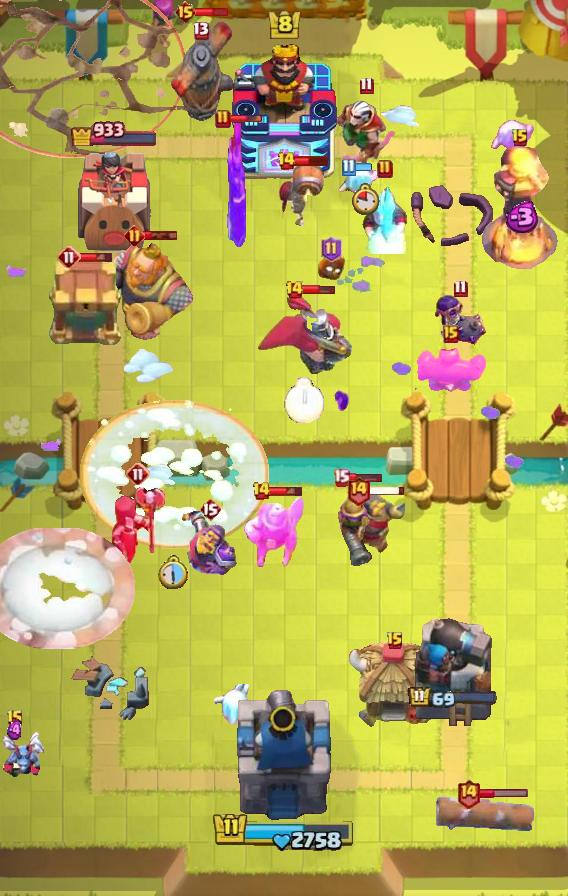bandit: (242, 493, 306, 571)
bat: (214, 684, 256, 724), (337, 165, 381, 201)
bomb: (44, 259, 122, 347)
bomb-tower: (332, 482, 374, 570)
bomber: (316, 253, 346, 281)
clock: (212, 811, 356, 853)
dark-prince: (163, 12, 241, 124)
electro-dragon: (480, 144, 560, 272)
electro-spirit: (501, 201, 540, 233), (7, 719, 23, 741)
elixir: (284, 377, 324, 423), (158, 555, 190, 589), (352, 183, 380, 215)
elixir-golem-big: (223, 123, 249, 249)
emote: (478, 789, 530, 800), (294, 153, 331, 166), (370, 484, 407, 496), (78, 251, 114, 263), (268, 485, 304, 497), (194, 6, 229, 18), (300, 284, 335, 296), (348, 471, 383, 483), (142, 231, 178, 242), (229, 114, 263, 124), (352, 162, 372, 174)
firecracker: (347, 492, 405, 555)
firecracker-evolution: (180, 509, 239, 576)
giant-skeleton: (92, 240, 200, 344)
goblin-ball: (432, 292, 488, 348)
guard: (1, 0, 187, 158)
king-tower: (230, 41, 338, 181), (232, 686, 336, 826)
knight: (277, 161, 327, 229)
minion: (434, 791, 536, 835)
mirror: (487, 118, 537, 156)
mortar: (360, 180, 410, 254)
phoenix-big: (80, 399, 268, 549)
prince: (348, 640, 442, 730)
queen-tower: (71, 144, 157, 255)
rascal-boy: (108, 485, 168, 569)
royal-delivery: (0, 731, 44, 777)
selected: (69, 118, 158, 146), (408, 686, 498, 710)
skeleton-king: (334, 98, 398, 168)
text: (456, 779, 481, 810), (346, 475, 371, 505), (57, 245, 81, 269), (126, 462, 150, 486), (321, 236, 343, 262), (175, 0, 198, 24), (199, 497, 221, 521), (123, 225, 144, 247), (276, 151, 296, 171), (285, 280, 304, 300), (253, 481, 272, 501), (511, 128, 529, 148), (386, 631, 404, 651), (6, 709, 24, 729), (215, 109, 231, 129), (377, 159, 393, 179), (334, 469, 351, 487), (443, 325, 459, 343), (453, 279, 467, 298), (359, 77, 373, 95), (341, 159, 355, 177)
tornado: (415, 345, 487, 395)
tower-bar: (410, 611, 496, 731)
wall-breaker: (0, 527, 135, 649)
wall-breaker-evolution: (255, 293, 353, 379)
